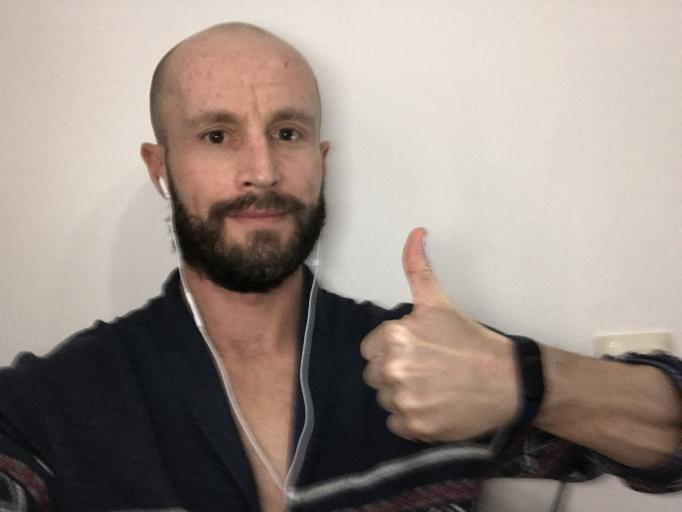like: (357, 222, 518, 446)
